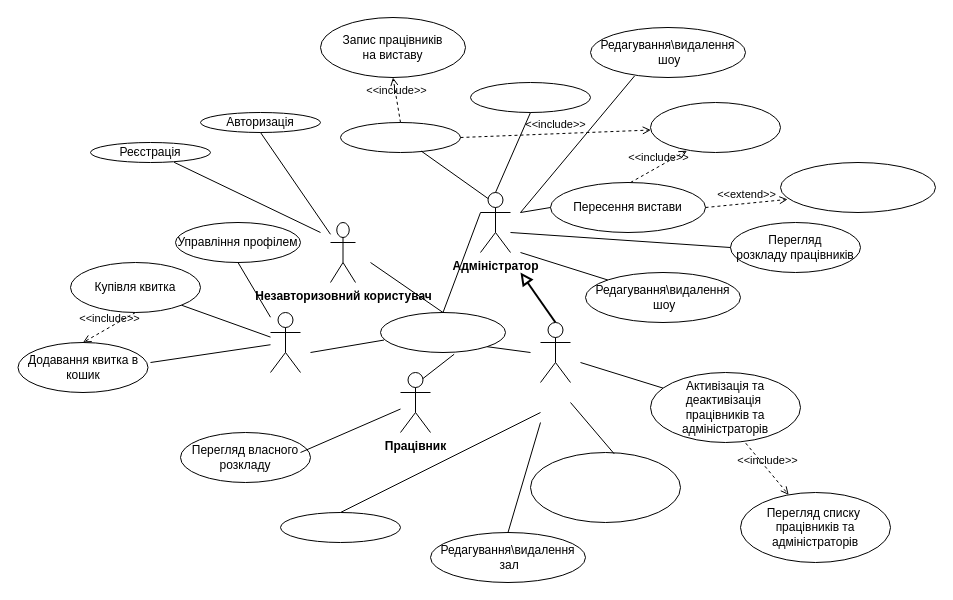
This 953x600 diagram has some shape labels left out. Here are the shapes that lost their labels. From the top down, the centre of each, then its label:
pixel 530 97: Додавання шоу
pixel 400 137: Додавання вистав
pixel 715 127: Перегляд вільних слотів
pixel 858 187: Переніс квитків на вільну виставу
pixel 285 342: Авторизований користувач
pixel 443 332: Перегляд розкладу вистав
pixel 555 352: Головний адміністратор
pixel 605 487: Реєстрація нових працівників та адміністраторів
pixel 340 527: Додавання зал
